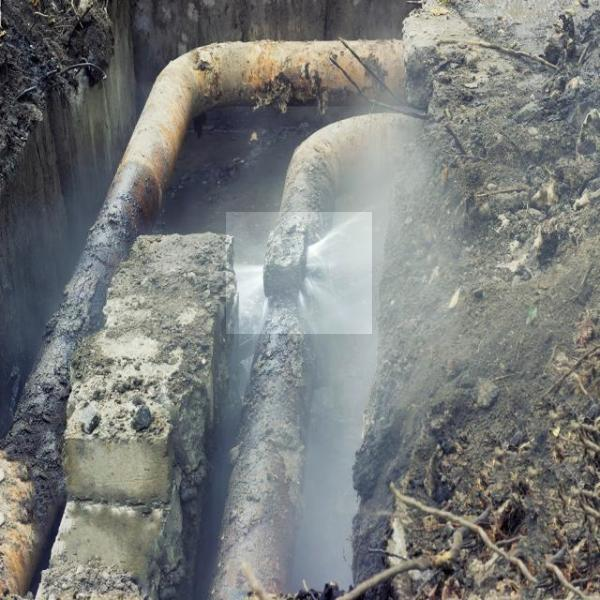leak: (226, 212, 372, 334)
